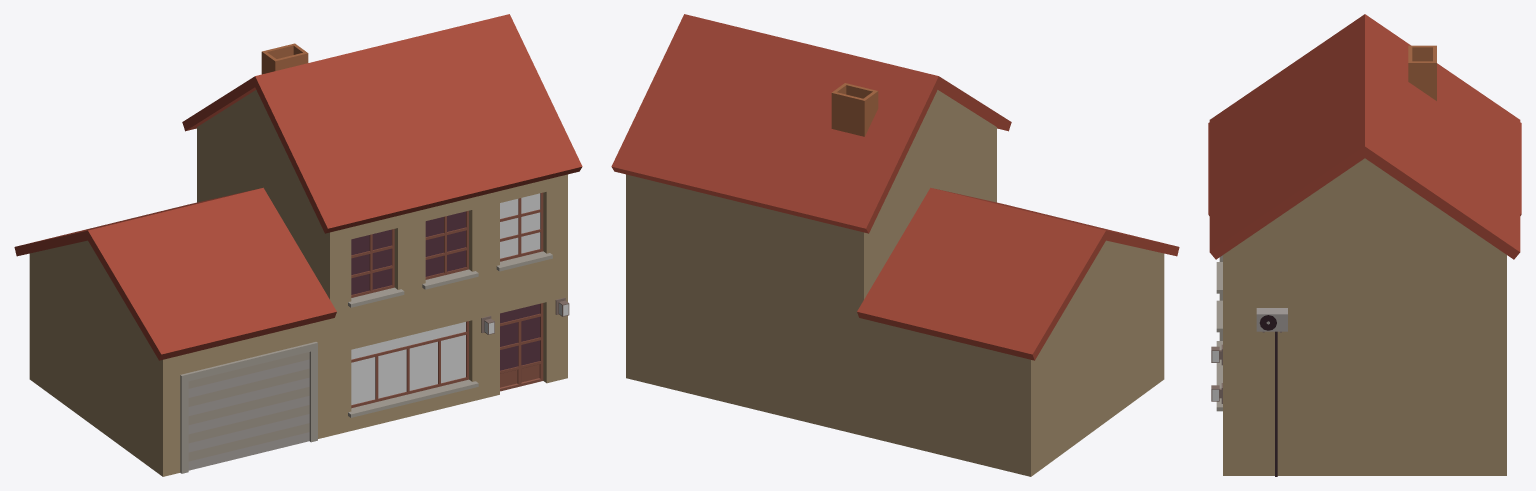
Rendered from Building_33.FBX.
3 renders of one model, left to right at view 1: azimuth 30°, elevation 25°; view 2: azimuth 150°, elevation 25°; view 3: azimuth 270°, elevation 25°, orthographic. The views are drawn at different scales.
Visible parts, largest first — view 1: Building_33, Building_33LP; view 2: Building_33; view 3: Building_33.
Part boxes in pixels (x1,y1,x2,y2): Building_33: (14,14,582,476); Building_33LP: (351,193,568,404); Building_33: (611,14,1179,476); Building_33: (1208,14,1521,476).
Bounding box in the file's own units: 15.74 × 11.08 × 9.43.
